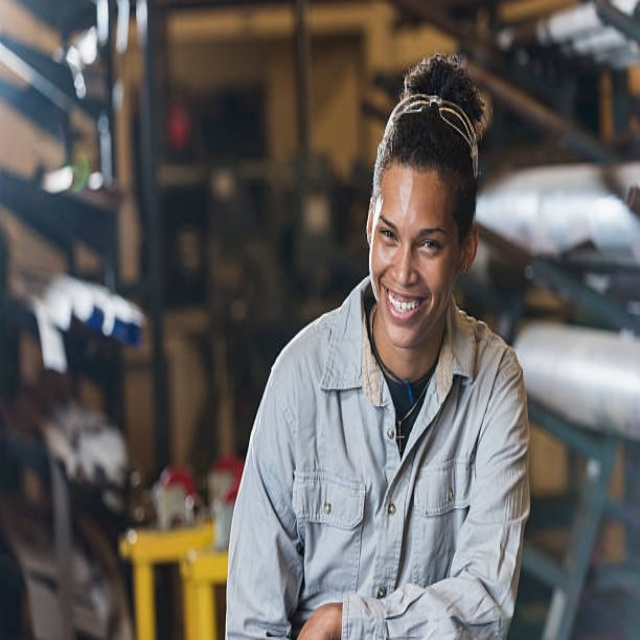Sin_gafas: (378, 204, 450, 257)
Sin_mascara: (379, 276, 427, 334)
